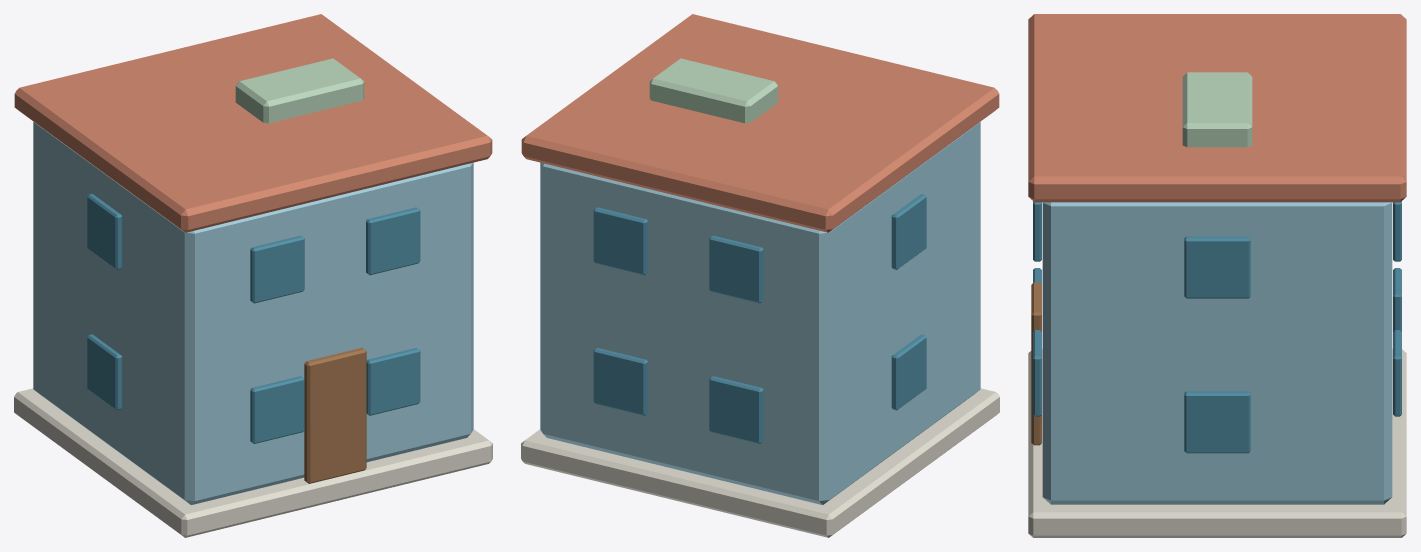
The model's file is RES_LOW_1x1_004.glb.
3 views of the same model, side by side, from view 1: azimuth 30°, elevation 25°; view 2: azimuth 150°, elevation 25°; view 3: azimuth 270°, elevation 25° (orthographic). The views are drawn at different scales.
Parts seen in each view (by area): view 1: RES_LOW_1x1_004_Visual; view 2: RES_LOW_1x1_004_Visual; view 3: RES_LOW_1x1_004_Visual.
Part boxes in pixels (left/top/right/bottom): RES_LOW_1x1_004_Visual: left=14, top=14, right=492, bottom=537; RES_LOW_1x1_004_Visual: left=521, top=14, right=999, bottom=537; RES_LOW_1x1_004_Visual: left=1028, top=14, right=1406, bottom=537.
Size of what is drawn, in the model's own units: 1.67 by 1.79 by 1.59.
